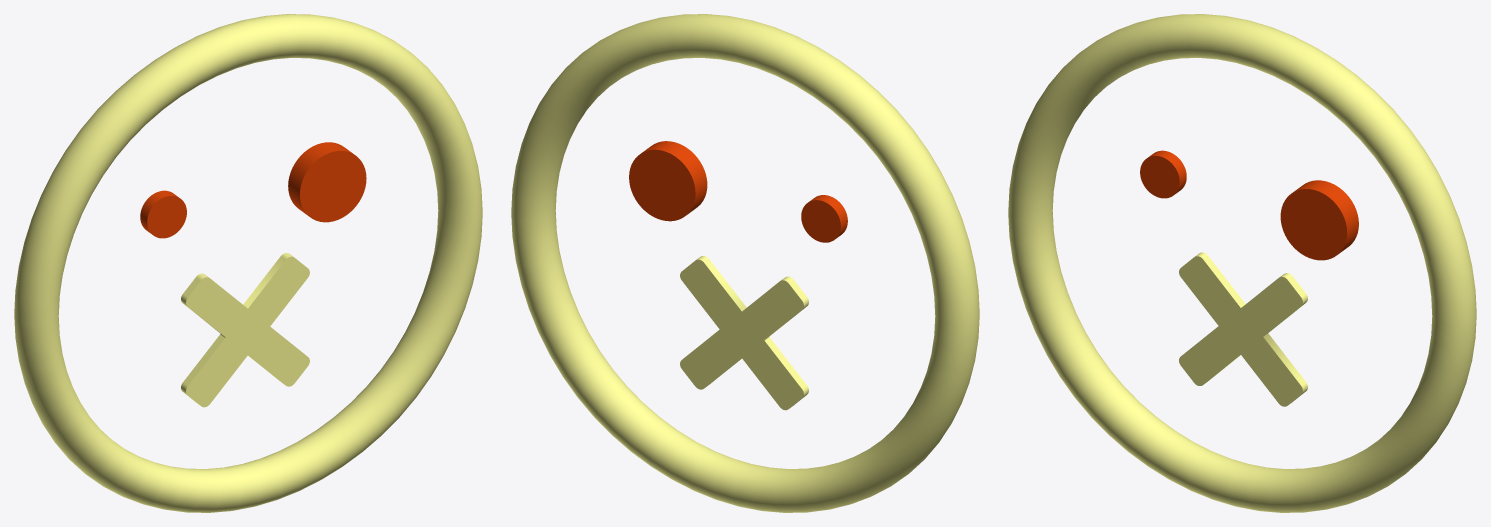
The picture shows the model from 3 angles, left to right: view 1: azimuth 30°, elevation 25°; view 2: azimuth 150°, elevation 25°; view 3: azimuth 330°, elevation 25°; orthographic projection.
Visible parts, largest first — view 1: torus, Curve, Curve.002, Curve.001; view 2: torus, Curve, Curve.002, Curve.001; view 3: torus, Curve, Curve.002, Curve.001.
Boxes of the visible parts, x1,y1,x2,y2 form: torus: (14, 14, 482, 512); Curve: (181, 253, 309, 407); Curve.002: (288, 142, 366, 222); Curve.001: (140, 190, 186, 238); torus: (511, 14, 979, 512); Curve: (680, 256, 808, 410); Curve.002: (629, 141, 707, 221); Curve.001: (801, 195, 847, 242); torus: (1008, 14, 1476, 512); Curve: (1179, 252, 1307, 406); Curve.002: (1280, 180, 1358, 260); Curve.001: (1140, 150, 1186, 198).
Size of the model in its own units: 5.25 by 5.25 by 0.4736.
